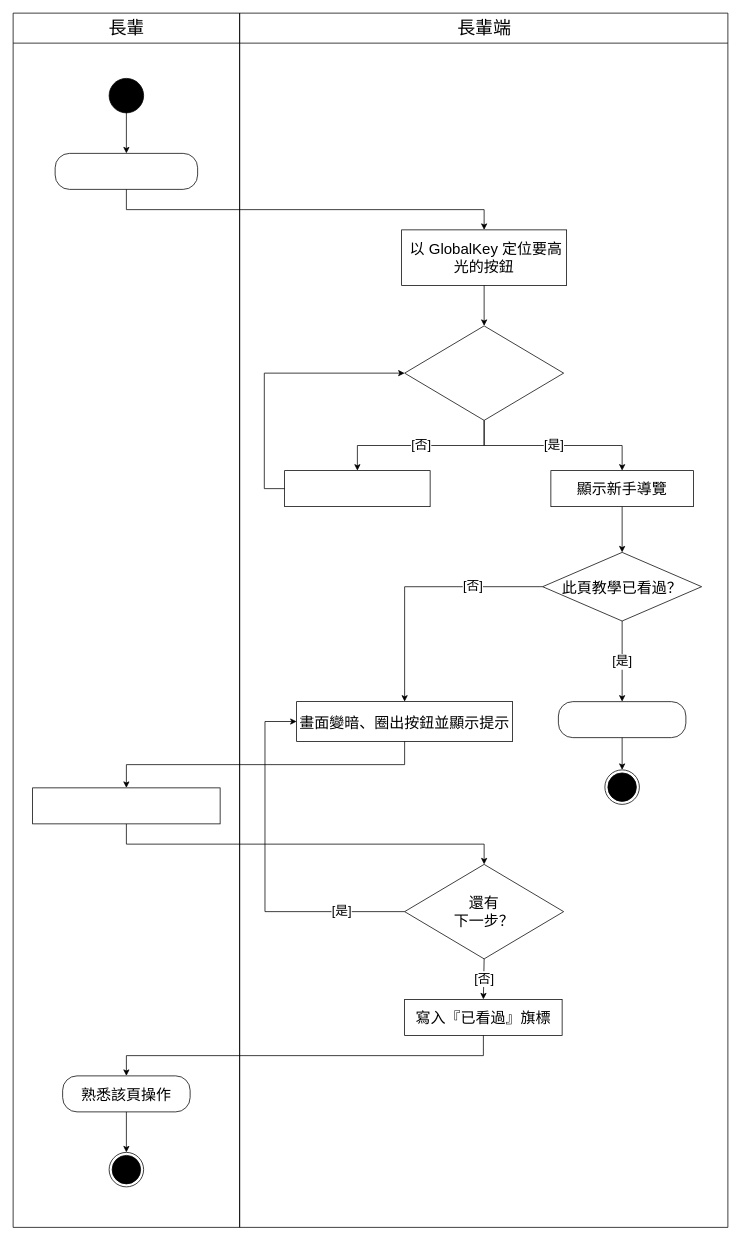
Some shapes in this 741 by 1241 pixel diagram are drawn without their labels. Here are the shapes that lost their labels. From the top down, the centre of each, then its label:
At (x=126, y=171): "進入某個底部分頁".
At (x=484, y=372): "版面量測 是否完成？".
At (x=357, y=488): "延後一幀再重試".
At (x=622, y=719): "跳過，不打擾".
At (x=126, y=805): "點『知道了』前進下一步".
